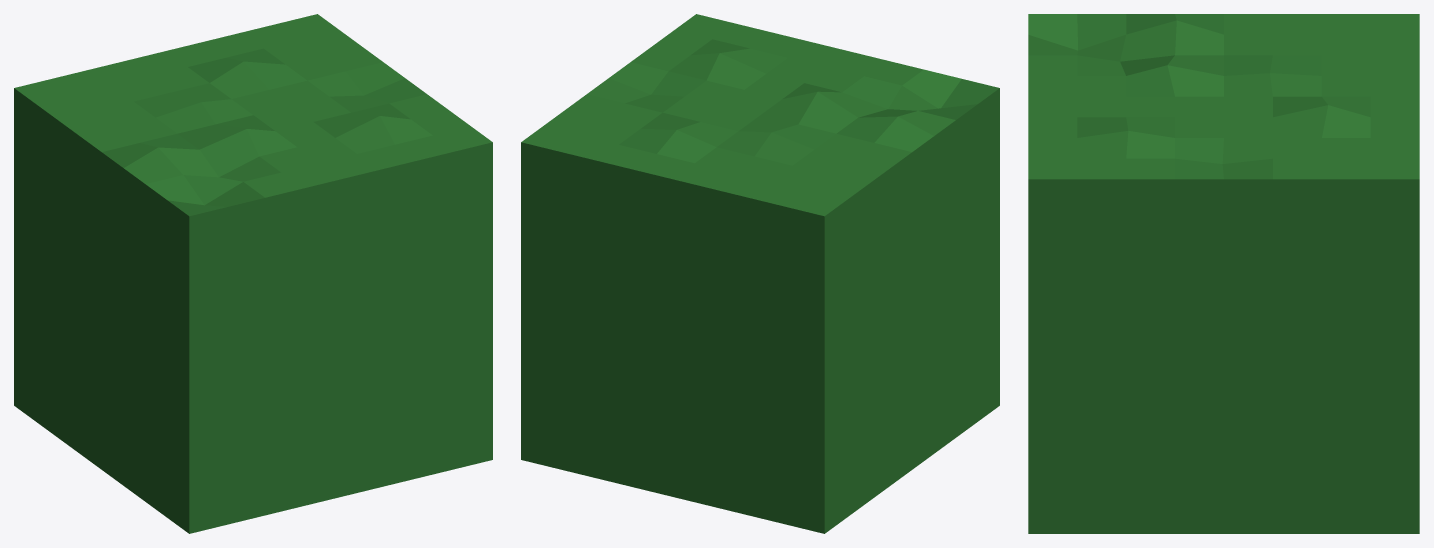
Rendered from GroundA.fbx.
3 views of the same model, side by side, from view 1: azimuth 30°, elevation 25°; view 2: azimuth 150°, elevation 25°; view 3: azimuth 270°, elevation 25° (orthographic). The views are drawn at different scales.
Visible parts, largest first — view 1: Floor1.002; view 2: Floor1.002; view 3: Floor1.002.
Part boxes in pixels (x1=…): Floor1.002: x1=14, y1=14, x2=492, y2=533; Floor1.002: x1=521, y1=14, x2=999, y2=533; Floor1.002: x1=1028, y1=14, x2=1419, y2=533.
Size of the model in its own units: 200 by 208 by 200.
